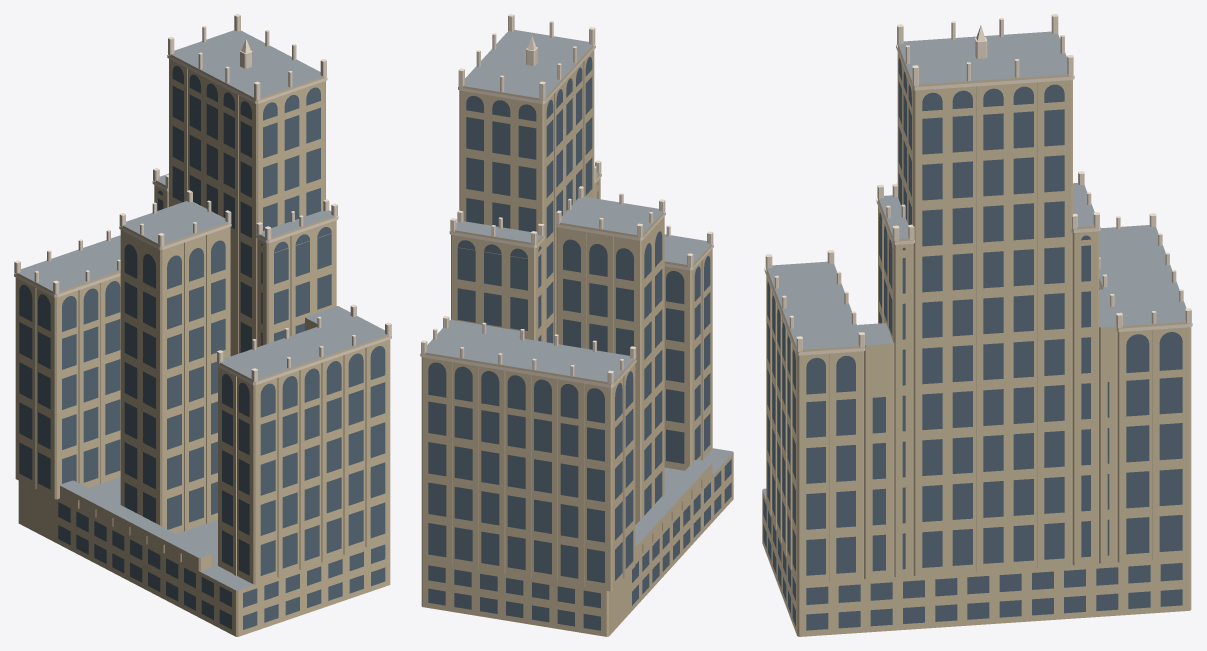
File: detail.glb
3 renders of one model, left to right at view 1: azimuth 30°, elevation 25°; view 2: azimuth 150°, elevation 25°; view 3: azimuth 270°, elevation 25°, orthographic. The views are drawn at different scales.
Visible parts, largest first — view 1: russ-building; view 2: russ-building; view 3: russ-building.
Boxes of the visible parts, x1=… form: russ-building: x1=14, y1=14, x2=391, y2=636; russ-building: x1=420, y1=14, x2=733, y2=636; russ-building: x1=762, y1=14, x2=1192, y2=636.
Bounding box in the file's own units: 62.72 × 136 × 91.74.
